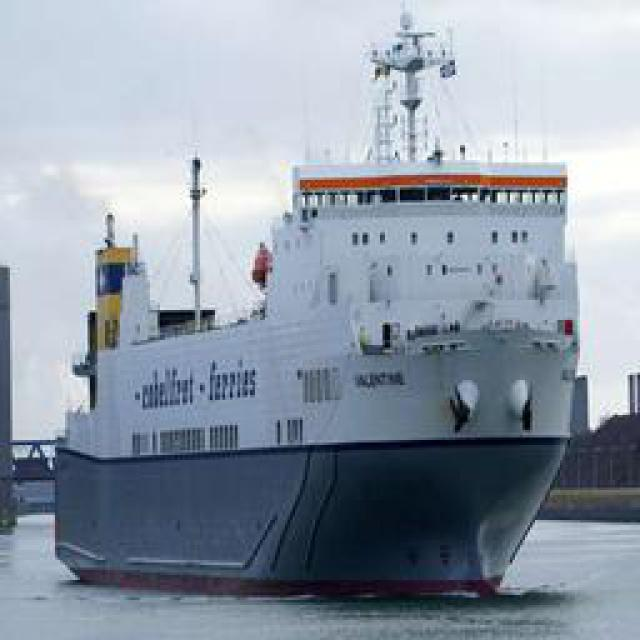Ship: (30, 37, 588, 597)
